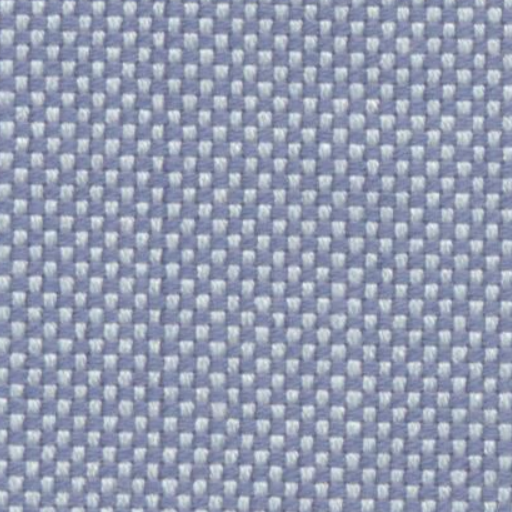TuoSha: (124, 29, 187, 490)
